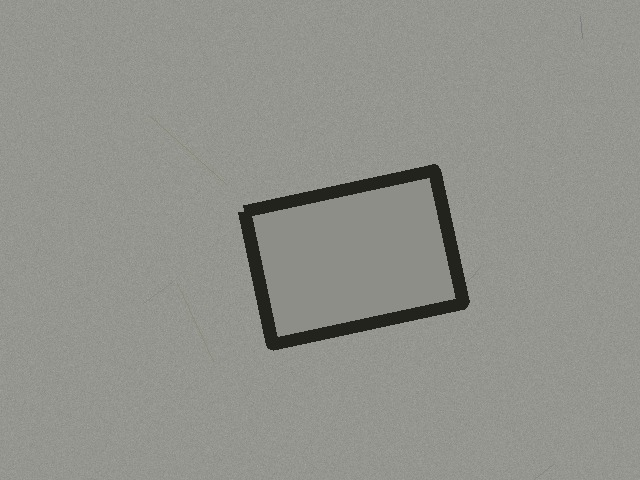parking_area: (244, 170, 463, 344)
